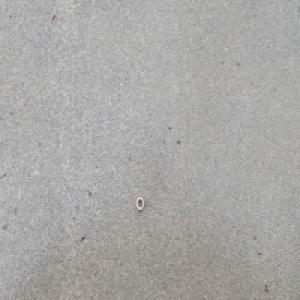Nut: (135, 195, 145, 211)
